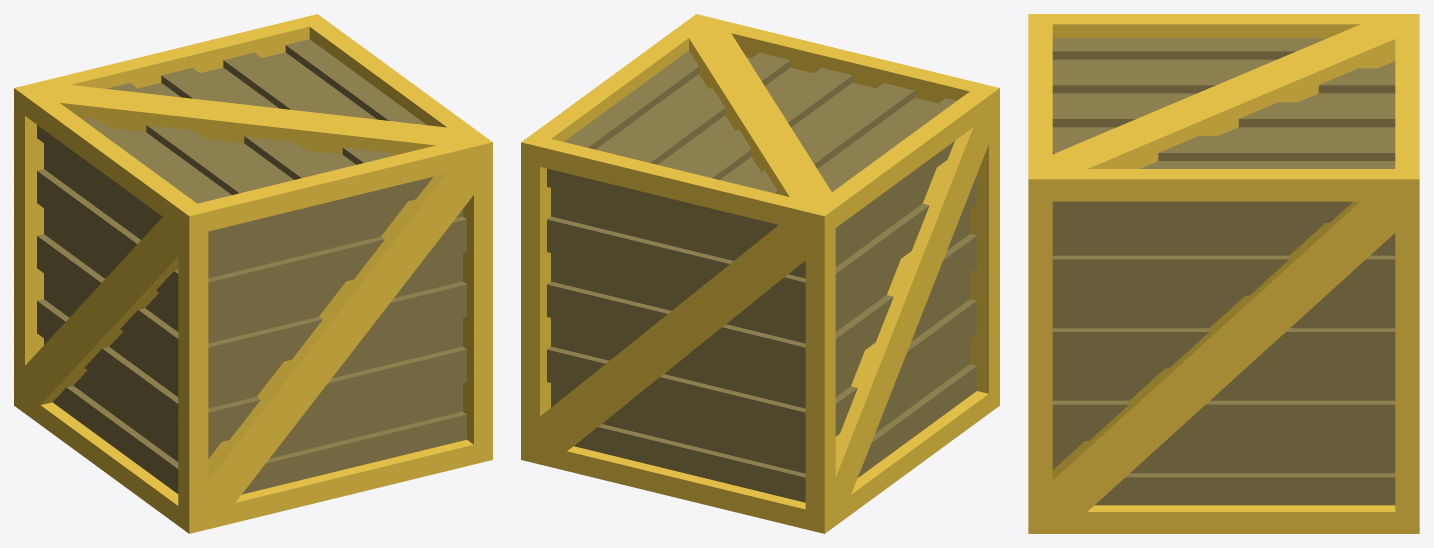
File: Crate.fbx
The picture shows the model from 3 angles, left to right: view 1: azimuth 30°, elevation 25°; view 2: azimuth 150°, elevation 25°; view 3: azimuth 270°, elevation 25°; orthographic projection. The views are drawn at different scales.
Parts seen in each view (by area): view 1: Outter Wood, Inner Wood; view 2: Inner Wood, Outter Wood; view 3: Inner Wood, Outter Wood.
Part boxes in pixels (left/top/right/bottom): Outter Wood: left=14, top=14, right=492, bottom=533; Inner Wood: left=37, top=39, right=466, bottom=494; Inner Wood: left=547, top=50, right=976, bottom=502; Outter Wood: left=521, top=14, right=999, bottom=533; Inner Wood: left=1052, top=38, right=1395, bottom=505; Outter Wood: left=1028, top=14, right=1419, bottom=533.
Size of the model in its own units: 200 by 200 by 200.
